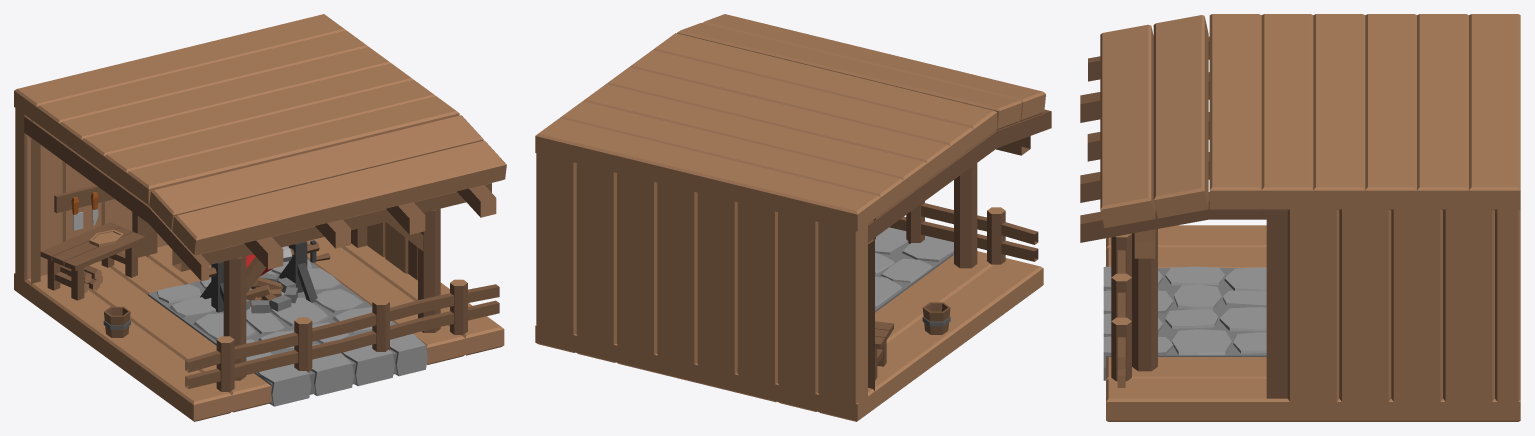
The model's file is Kitchen_Lvl_02_Straight_Right.fbx.
3 renders of one model, left to right at view 1: azimuth 30°, elevation 25°; view 2: azimuth 150°, elevation 25°; view 3: azimuth 270°, elevation 25°, orthographic. The views are drawn at different scales.
Parts seen in each view (by area): view 1: Kitchen_Lvl_02_Straight_Right; view 2: Kitchen_Lvl_02_Straight_Right; view 3: Kitchen_Lvl_02_Straight_Right.
Part boxes in pixels (x1=…): Kitchen_Lvl_02_Straight_Right: x1=14, y1=14, x2=506, y2=421; Kitchen_Lvl_02_Straight_Right: x1=535, y1=14, x2=1051, y2=421; Kitchen_Lvl_02_Straight_Right: x1=1080, y1=14, x2=1520, y2=421.
Size of the model in its own units: 8 by 5.05 by 8.5.
